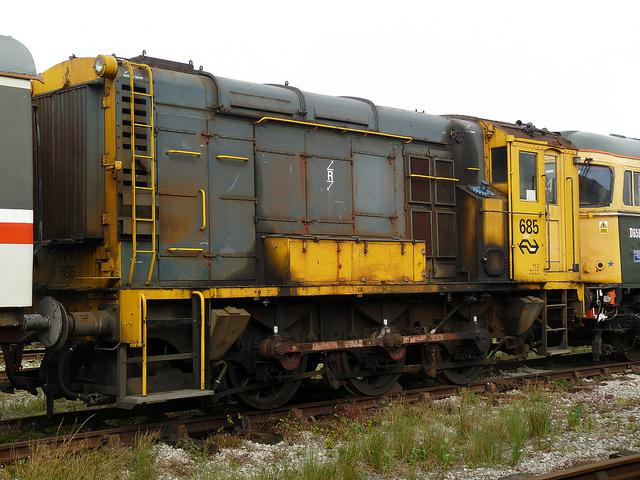Train: (2, 38, 640, 404)
